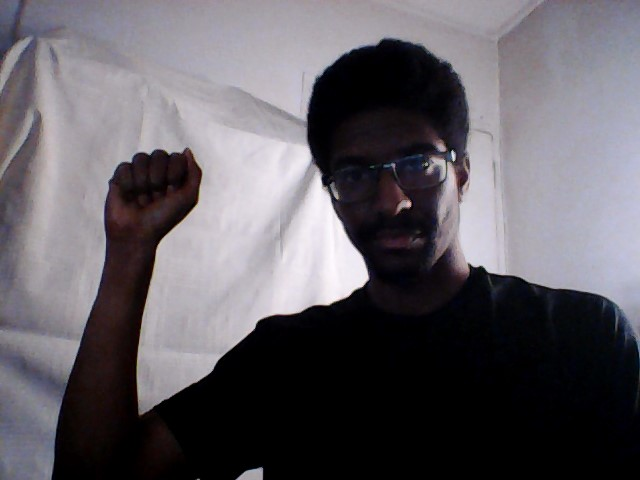a: (100, 145, 206, 240)
